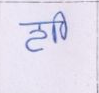i_matra: (55, 11, 68, 39)
